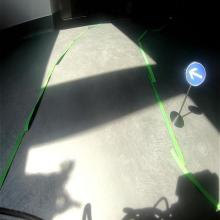left: (185, 62, 206, 86)
